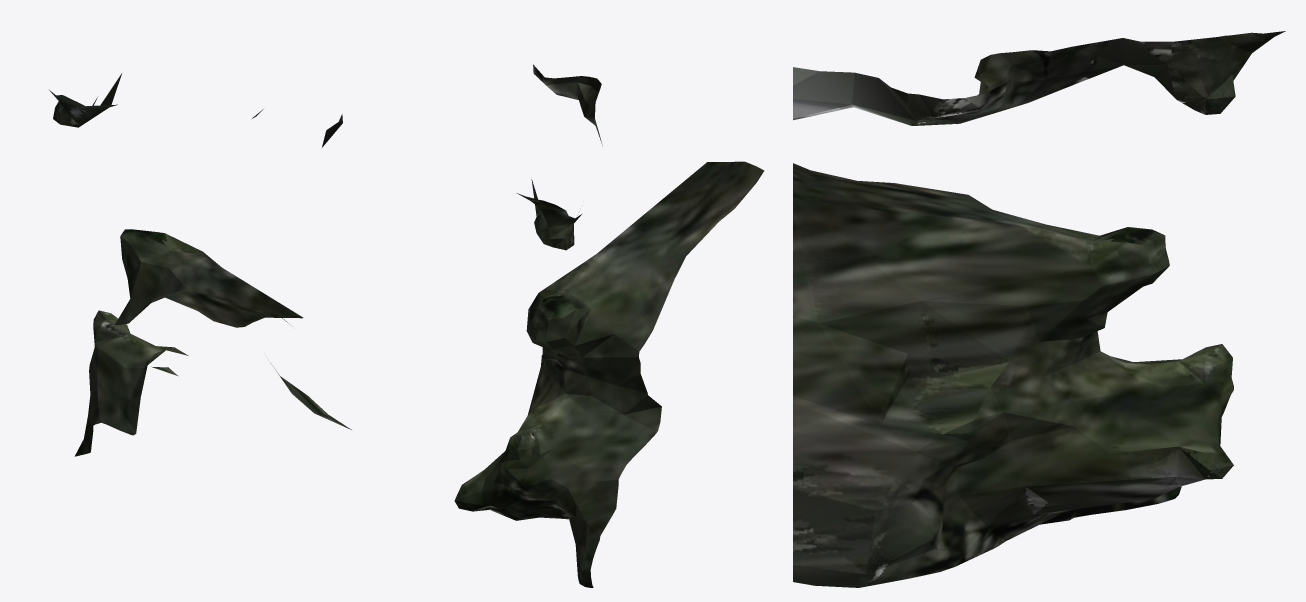
The picture shows the model from 3 angles, left to right: view 1: azimuth 30°, elevation 25°; view 2: azimuth 150°, elevation 25°; view 3: azimuth 270°, elevation 25°; orthographic projection. The views are drawn at different scales.
Bounding box in the file's own units: 0.7432 × 1.67 × 1.59.
3 materials, 3 textured.
